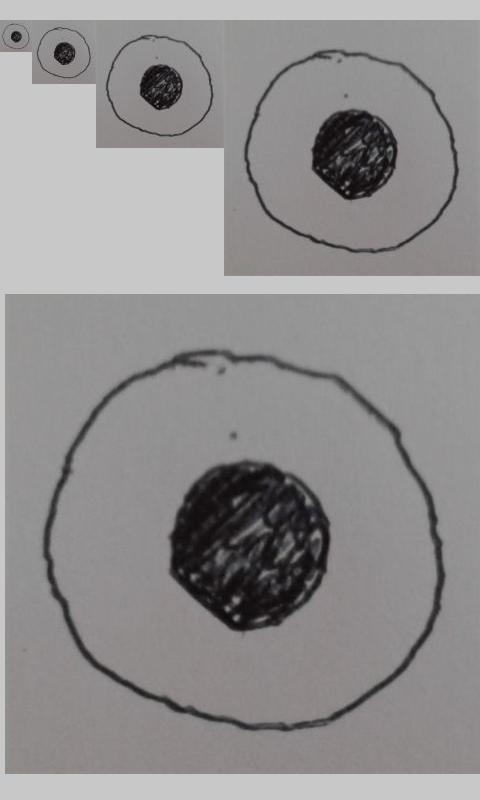radio_button: (41, 346, 448, 735), (241, 47, 459, 255), (105, 34, 215, 138), (36, 26, 91, 79), (1, 22, 30, 50)
